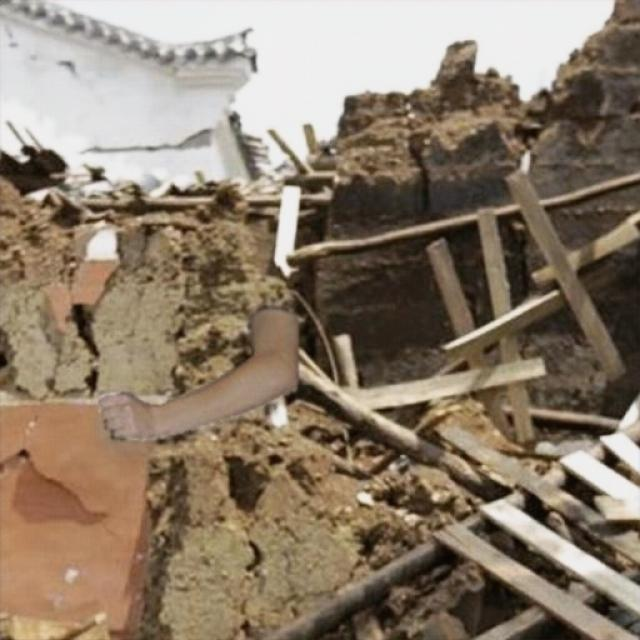Person in Rubble: (99, 306, 298, 440)
